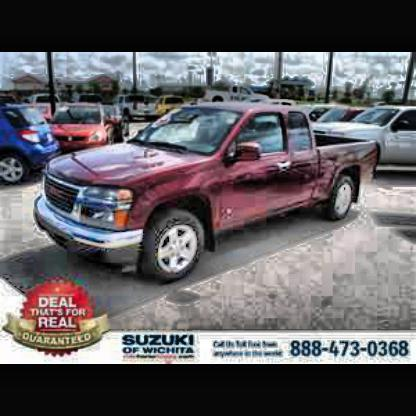GMC Canyon Extended Cab 2012: (14, 77, 391, 291)
